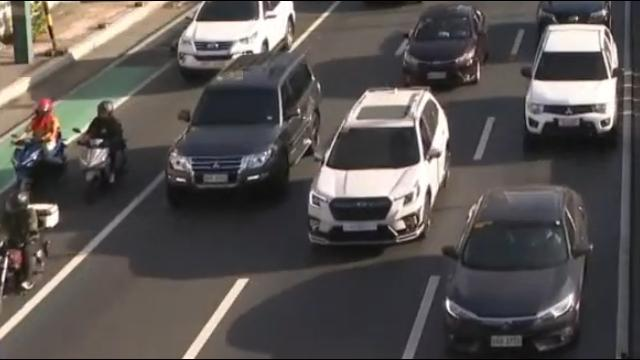car: (444, 187, 591, 360), (165, 55, 321, 210), (309, 90, 449, 241), (524, 28, 623, 140), (177, 0, 301, 72), (400, 4, 489, 88)
motorcycle: (1, 192, 59, 299), (72, 99, 128, 202), (13, 98, 69, 196)
